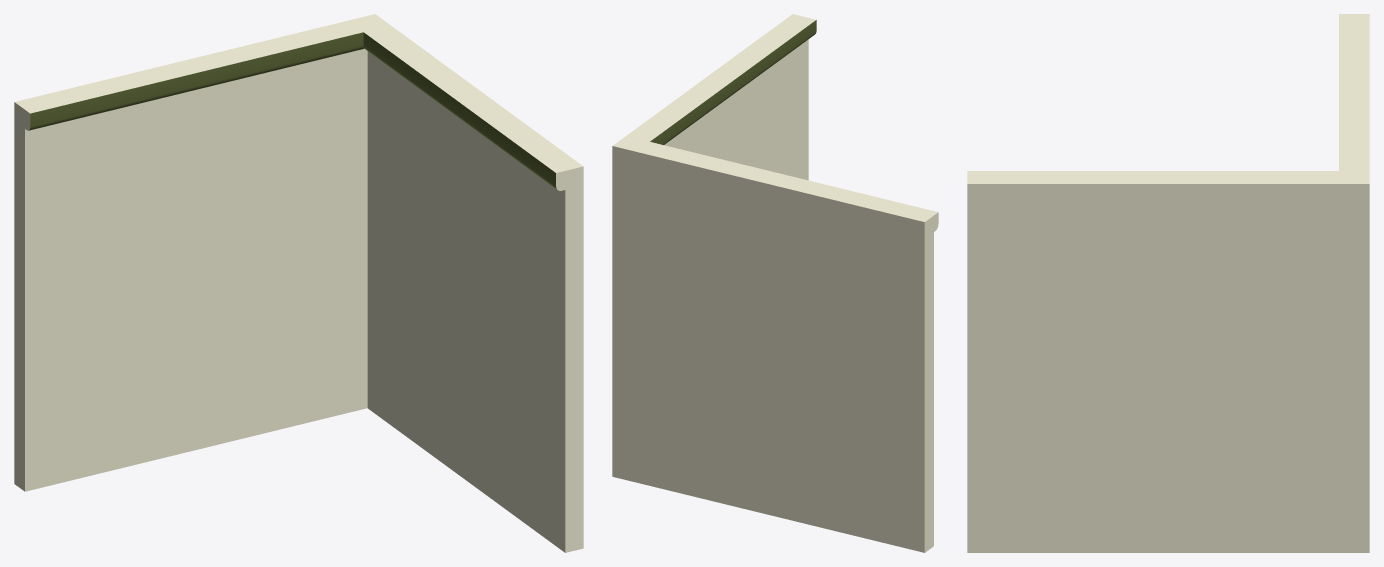
Rendered from Modular_02_corner_02.fbx.
The picture shows the model from 3 angles, left to right: view 1: azimuth 30°, elevation 25°; view 2: azimuth 150°, elevation 25°; view 3: azimuth 270°, elevation 25°; orthographic projection. The views are drawn at different scales.
Visible parts, largest first — view 1: Modular_02_corner_02; view 2: Modular_02_corner_02; view 3: Modular_02_corner_02.
Boxes of the visible parts, x1,y1,x2,y2 form: Modular_02_corner_02: [14, 14, 583, 552]; Modular_02_corner_02: [612, 14, 938, 552]; Modular_02_corner_02: [967, 14, 1369, 552].
Size of the model in its own units: 198 by 200 by 198.
